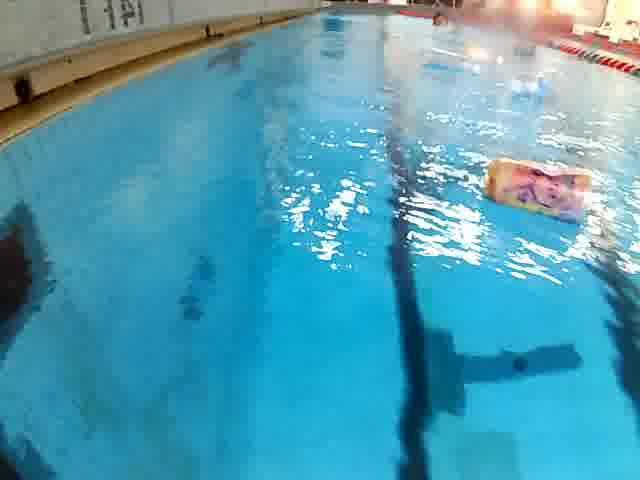Can: (479, 152, 602, 234)
